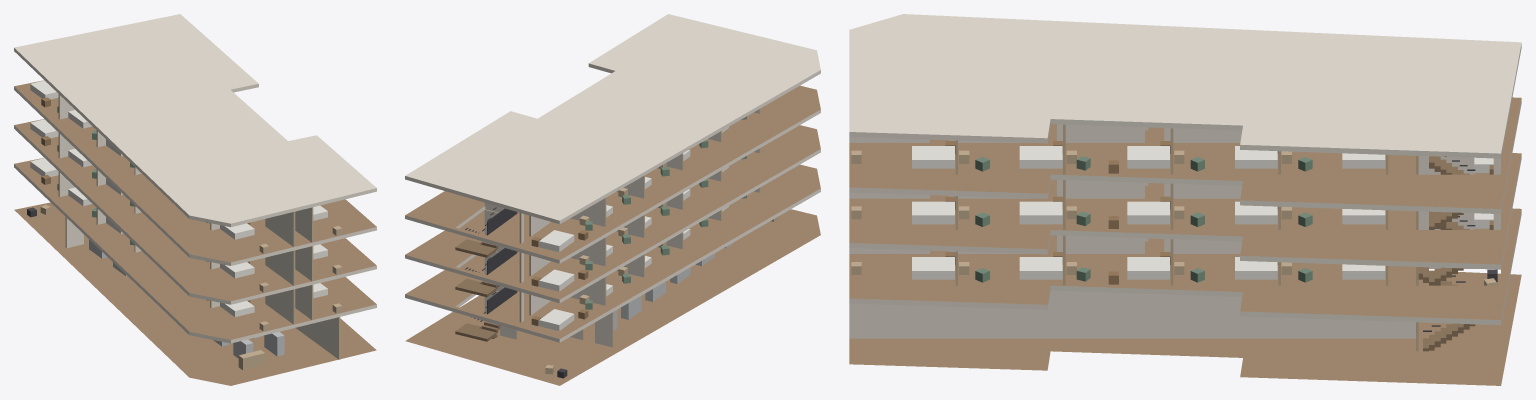
Rendered from interior.glb.
3 renders of one model, left to right at view 1: azimuth 30°, elevation 25°; view 2: azimuth 150°, elevation 25°; view 3: azimuth 270°, elevation 25°, orthographic. The views are drawn at different scales.
Parts seen in each view (by area): view 1: slabs, partitions, coarse-s2, coarse-s3, coarse-s1, coarse-s0; view 2: slabs, partitions, stair, coarse-s3, coarse-s2, coarse-s1, coarse-s0; view 3: slabs, partitions, coarse-s2, coarse-s1, coarse-s3, stair.
Boxes of the visible parts, x1,y1,x2,y2 form: slabs: (14, 14, 376, 385); partitions: (58, 94, 340, 359); coarse-s2: (30, 119, 342, 292); coarse-s3: (30, 80, 342, 253); coarse-s1: (30, 158, 342, 331); coarse-s0: (27, 205, 284, 370); slabs: (405, 14, 820, 385); partitions: (484, 108, 760, 347); stair: (455, 207, 517, 341); coarse-s3: (531, 116, 746, 251); coarse-s2: (531, 156, 746, 291); coarse-s1: (531, 195, 746, 330); coarse-s0: (545, 216, 778, 378); slabs: (849, 14, 1521, 385); partitions: (849, 124, 1500, 351); coarse-s2: (851, 157, 1493, 228); coarse-s1: (851, 213, 1493, 284); coarse-s3: (851, 141, 1385, 173); stair: (1418, 156, 1475, 351).
Bounding box in the file's own units: 15.37 × 11.95 × 31.29.
